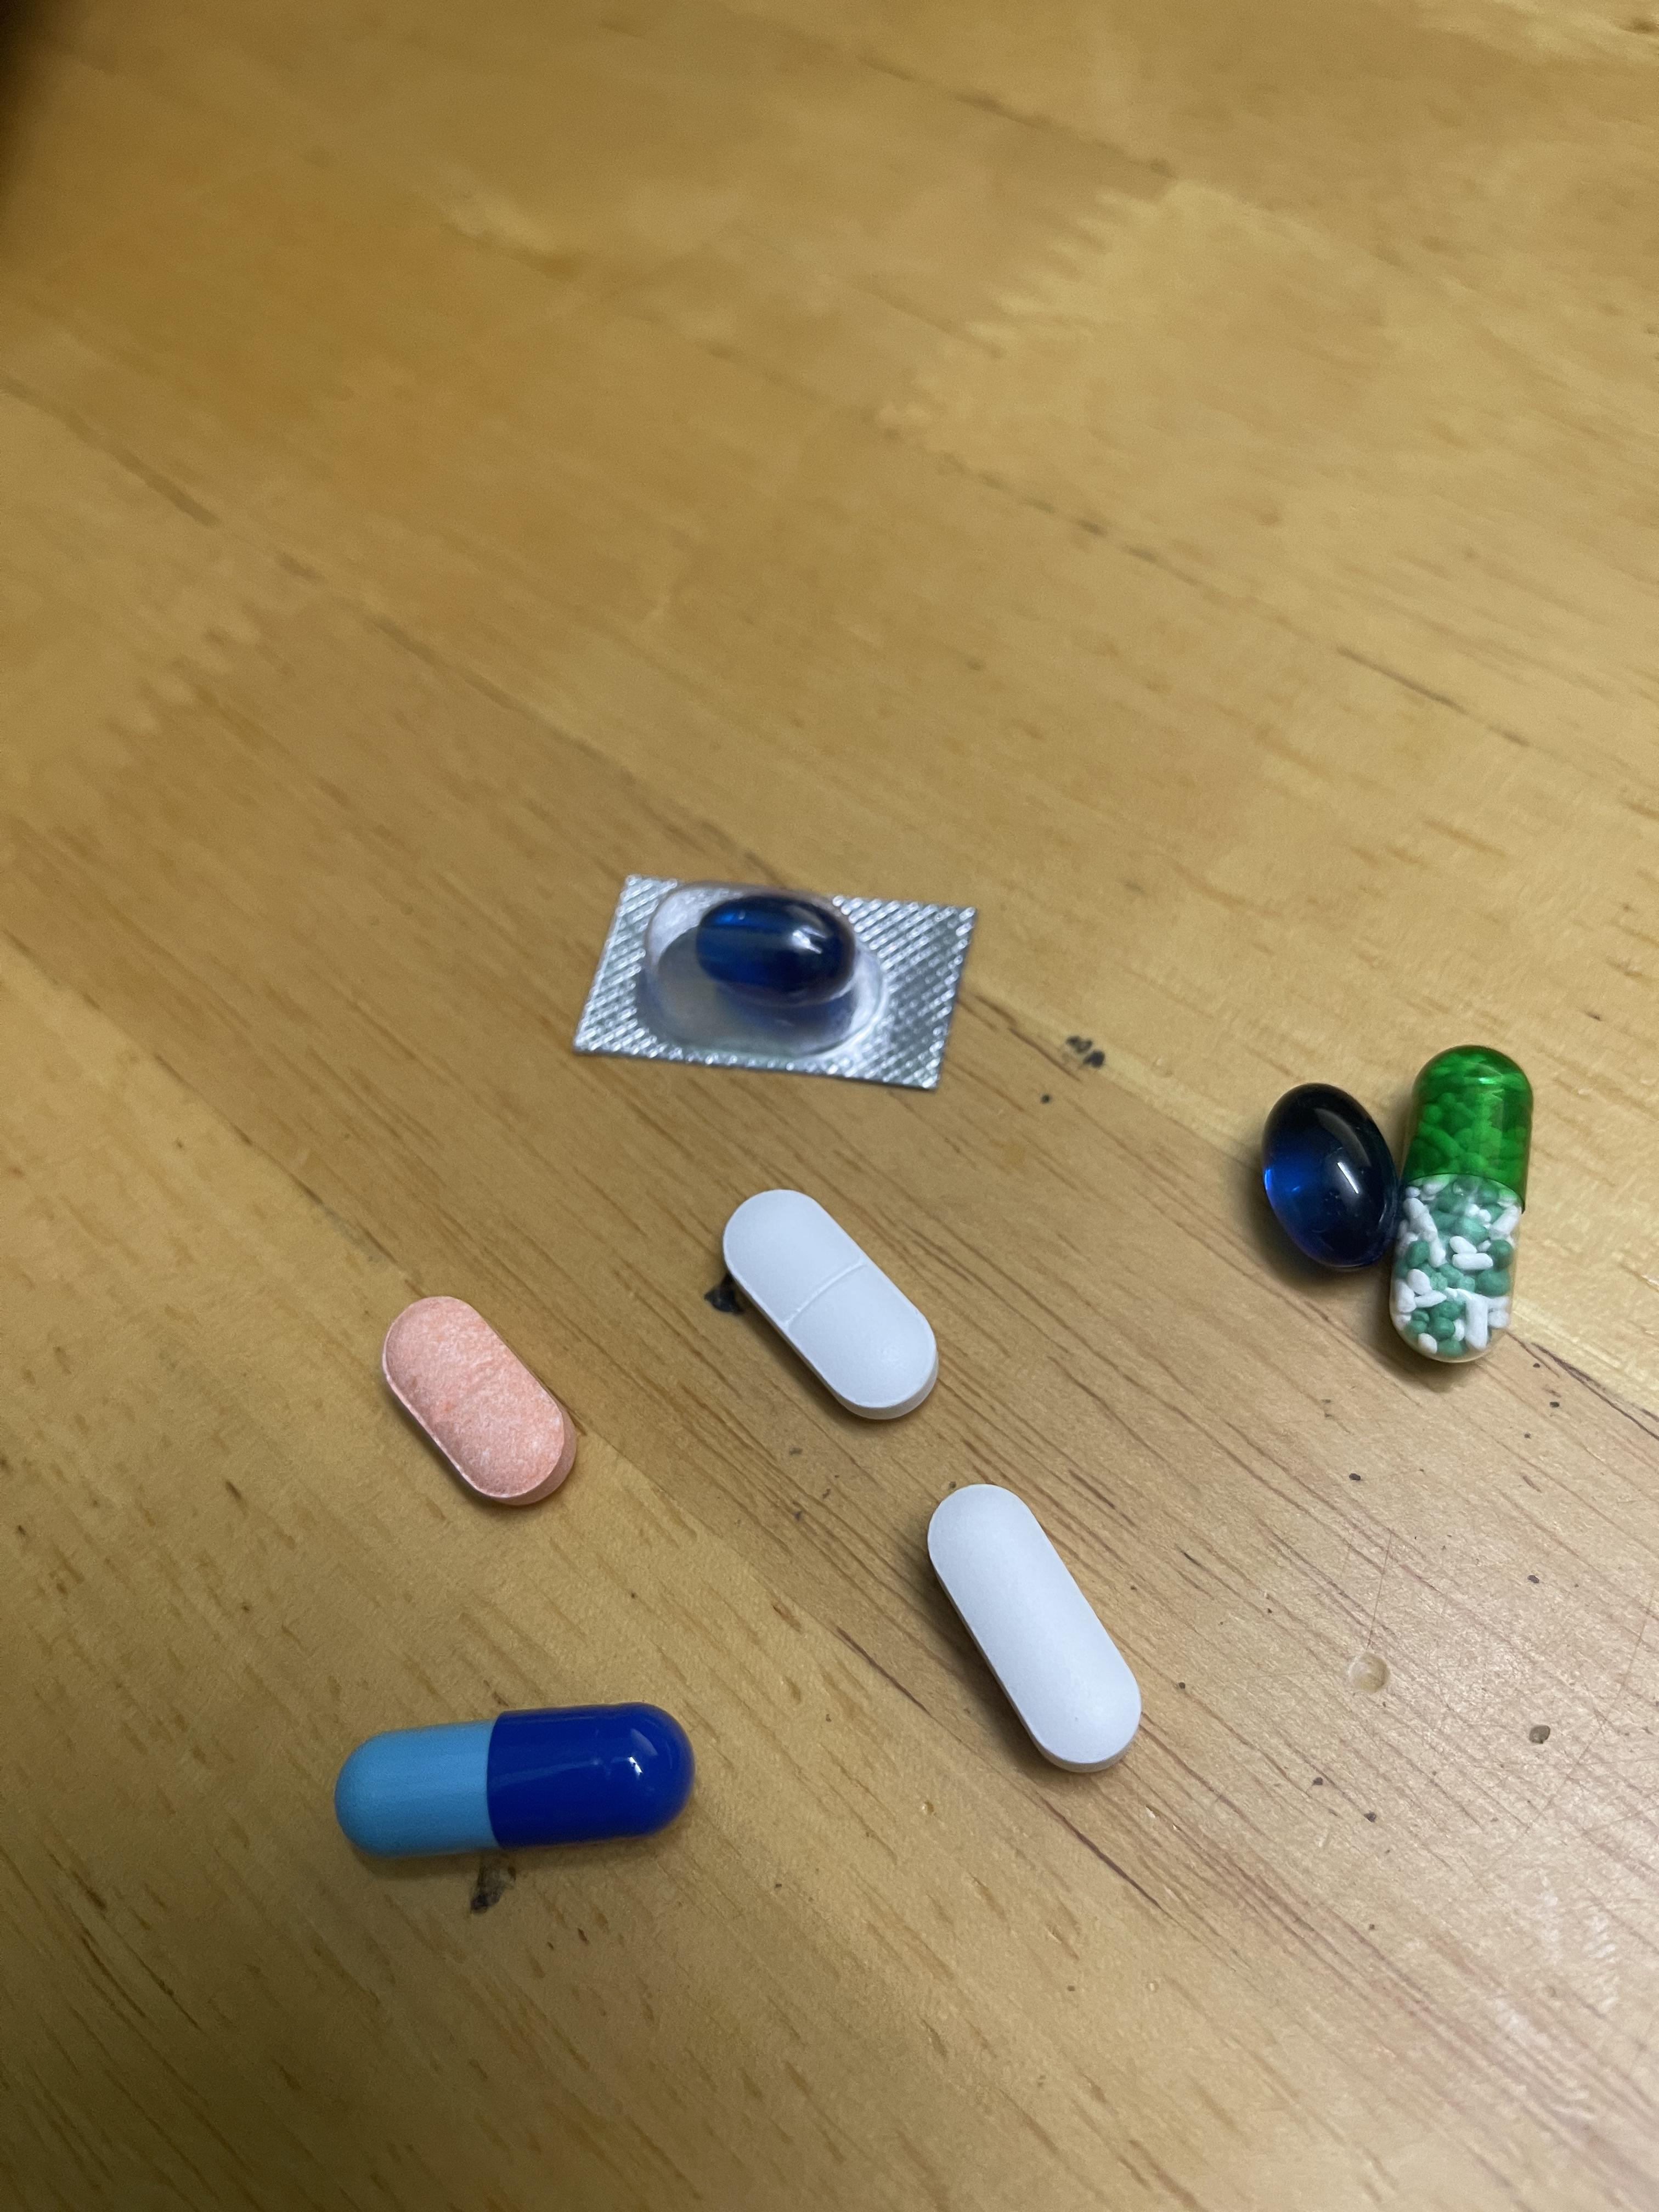Lincomyxin_500mg: (1256, 1082, 1405, 1270), (688, 888, 857, 1003)
Loratadine_10mg: (382, 1296, 575, 1501)
Paracetamol_350mg: (721, 1186, 943, 1418)
Paracetamol_500mg: (929, 1482, 1136, 1763)
Paracetamol_650mg: (1392, 1055, 1530, 1352)
pill: (342, 1710, 676, 1857)
